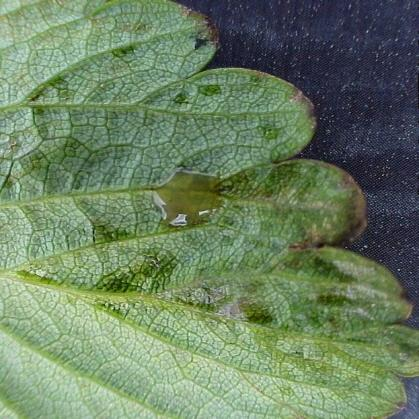Angular Leafspot: (0, 0, 418, 418)
